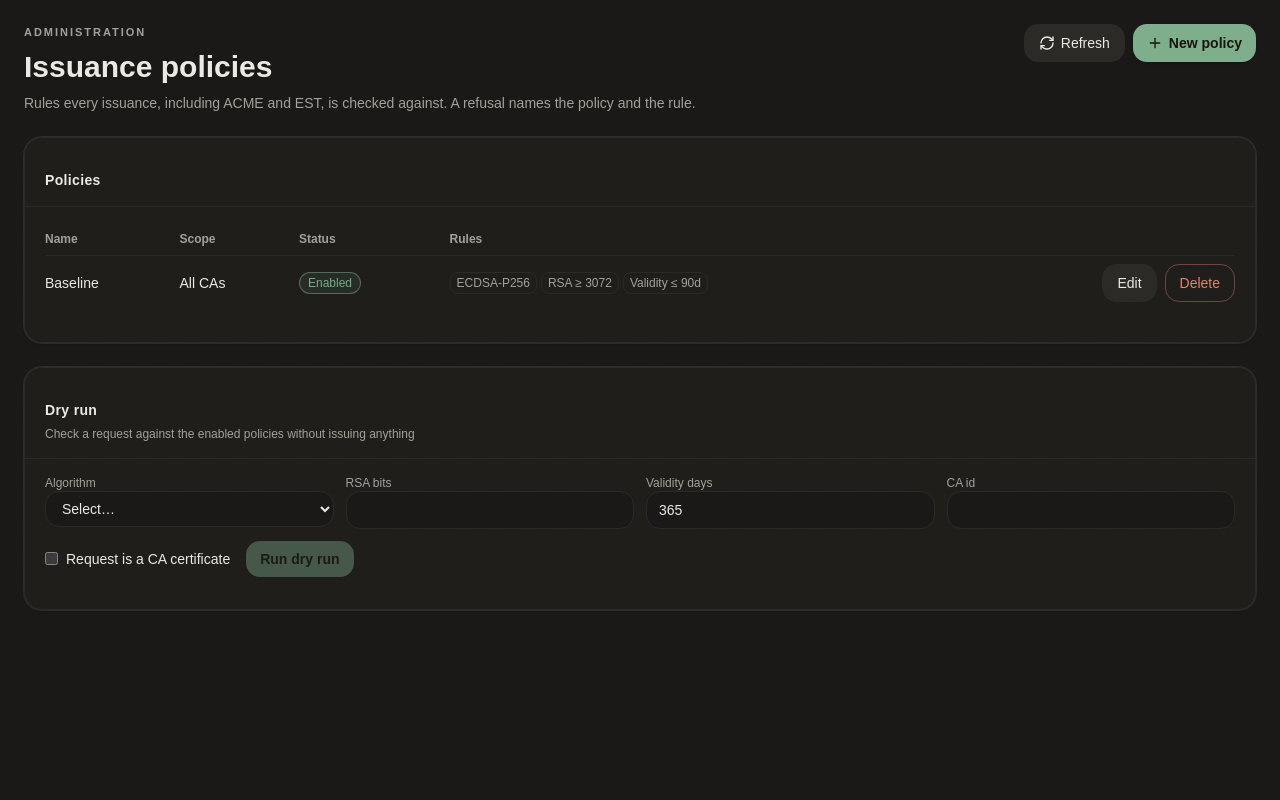
Test: Policies page › dry-run cites the violated rule, and says Allowed otherwise
expect the text "Baseline" is shown: met, box [45, 255, 180, 310]
Step 1. Select "ECDSA-P256" in the dropdown labelled "Algorithm" → (189, 508), box [45, 490, 334, 526]
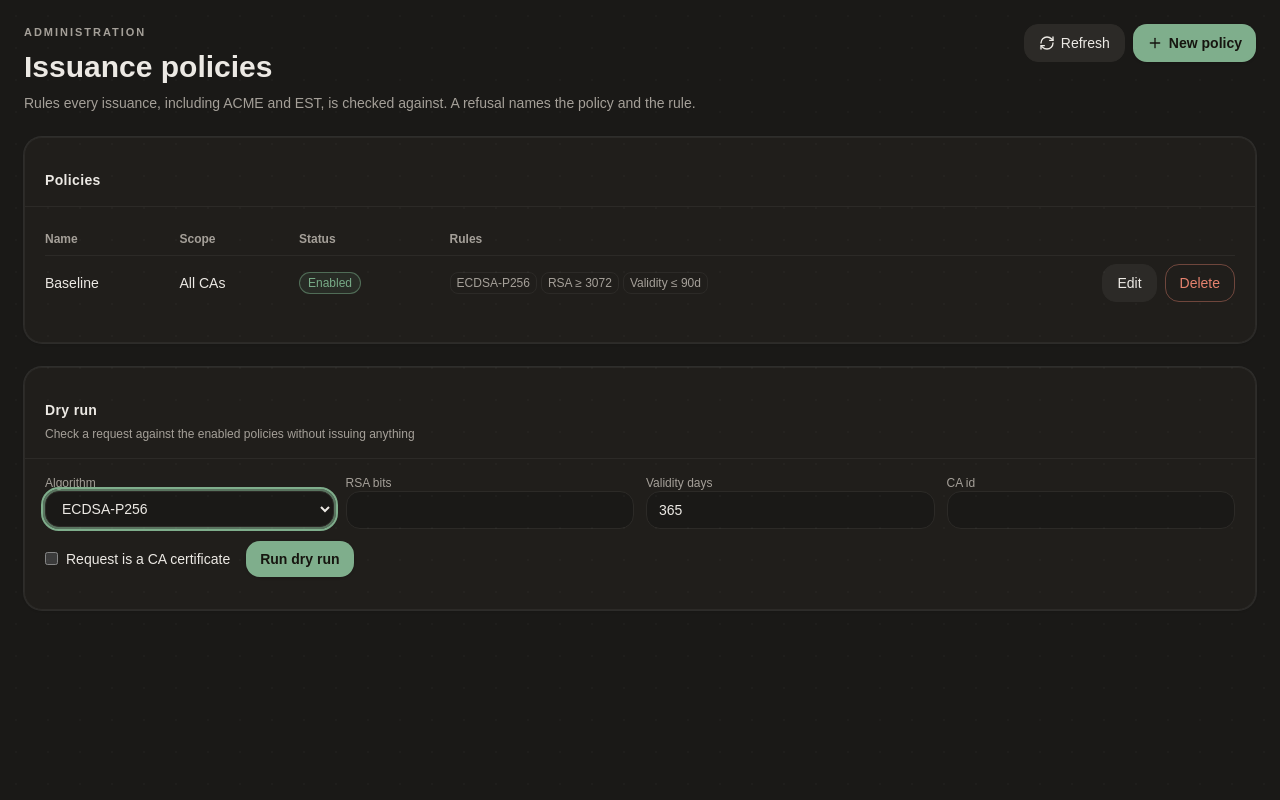
Step 2. Click the button "Run dry run" → click(300, 558), box [246, 540, 354, 576]
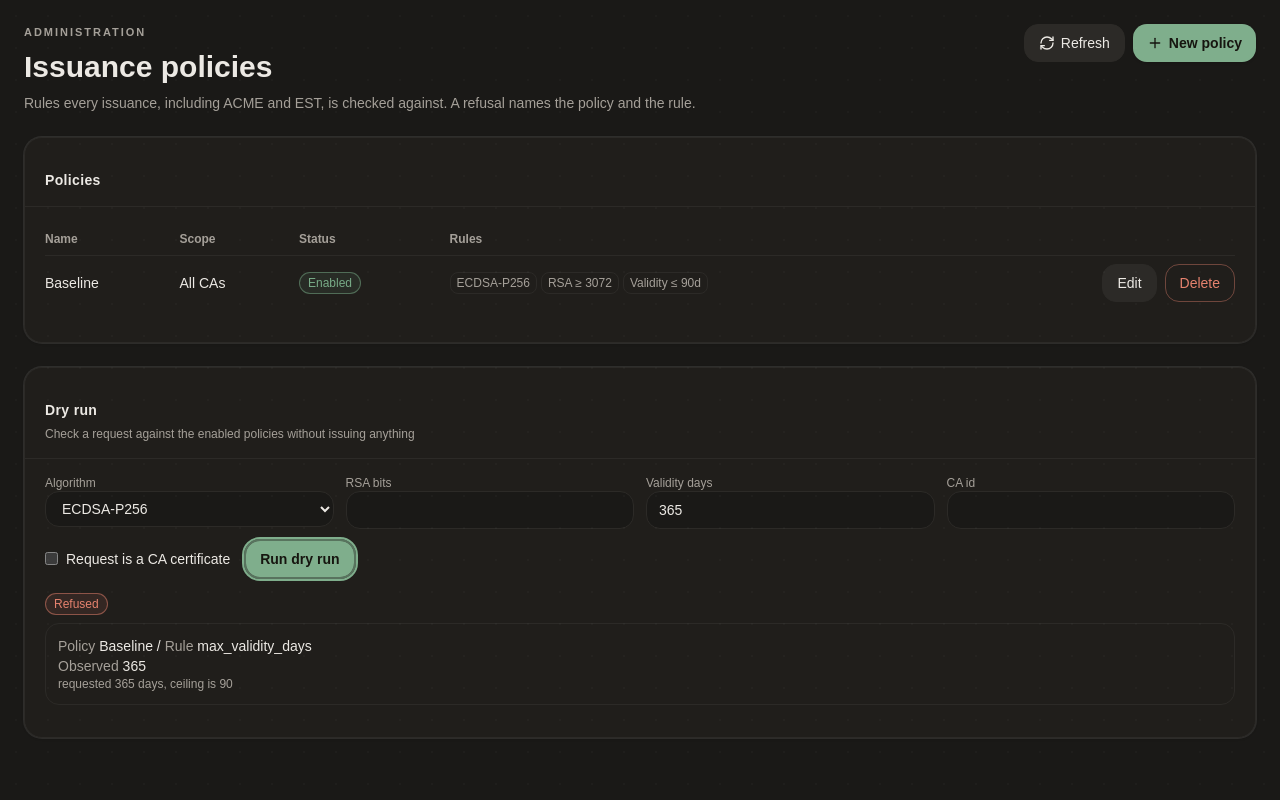
expect the text "max_validity_days" is shown: met, box [197, 638, 312, 654]
expect the text "365" is shown: met, box [123, 658, 146, 674]
Step 3. Click the button "Run dry run" → click(300, 558), box [246, 540, 354, 576]
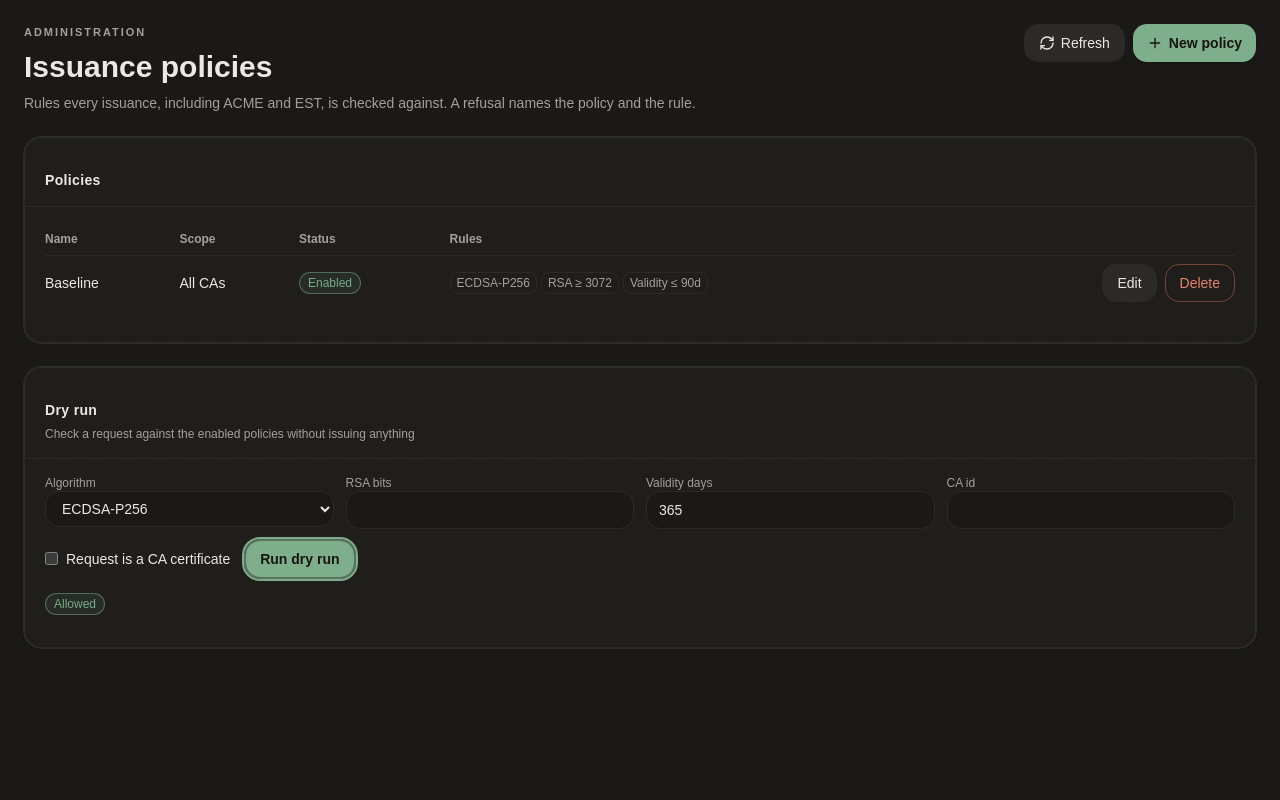
expect the text "Allowed" is shown: met, box [45, 592, 105, 614]
